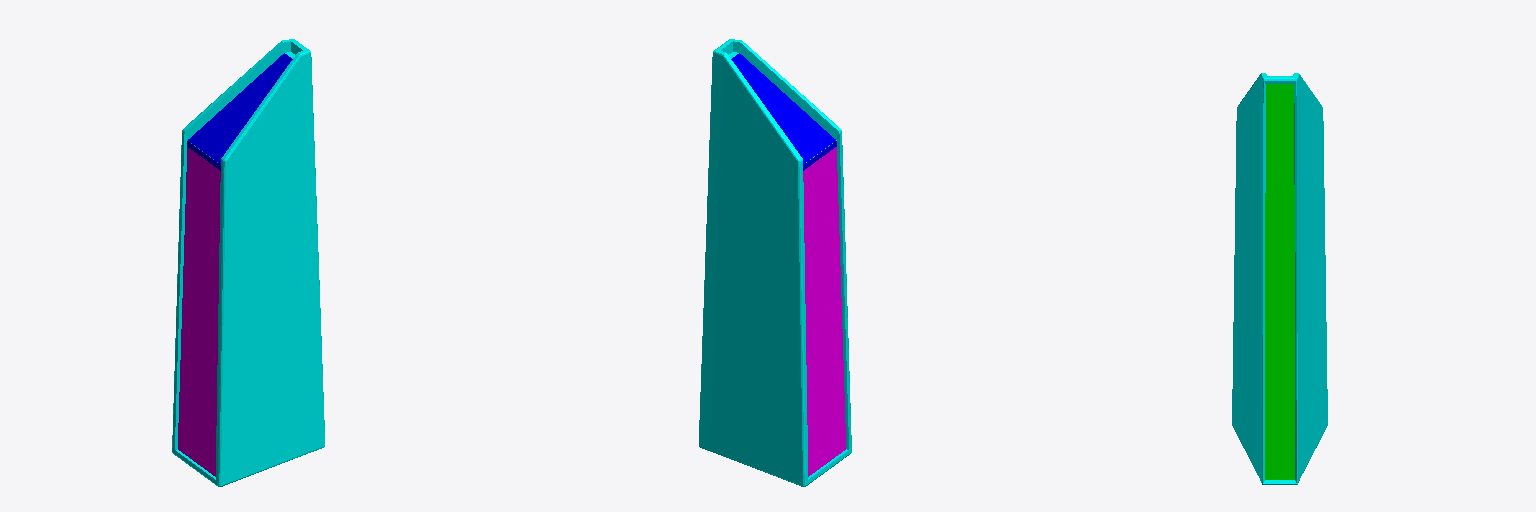
File: skyscraper_01.obj
3 views of the same model, side by side, from view 1: azimuth 30°, elevation 25°; view 2: azimuth 150°, elevation 25°; view 3: azimuth 270°, elevation 25° (orthographic).
Parts seen in each view (by area): view 1: Skyscraper_1; view 2: Skyscraper_1; view 3: Skyscraper_1.
Boxes of the visible parts, <box> form: Skyscraper_1: <box>172,39,324,486</box>; Skyscraper_1: <box>699,39,851,486</box>; Skyscraper_1: <box>1232,73,1327,484</box>.
Size of the model in its own units: 2.13 by 6.68 by 1.45.